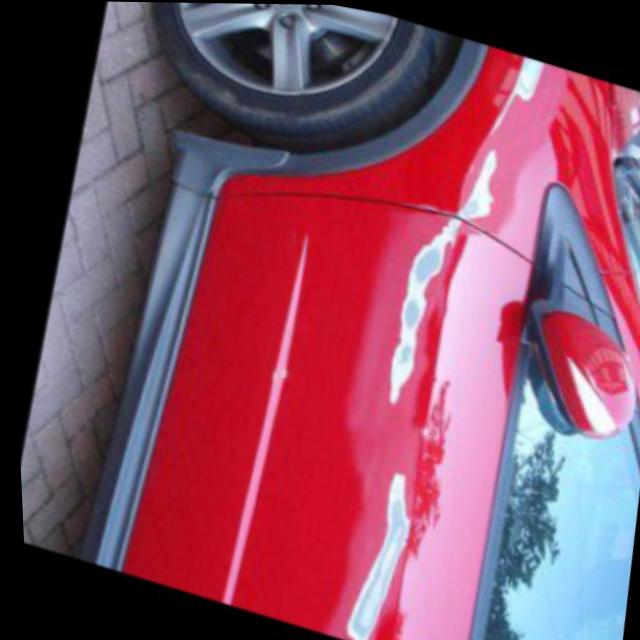Scratch: (365, 143, 508, 419), (308, 431, 415, 640), (506, 55, 555, 118)
